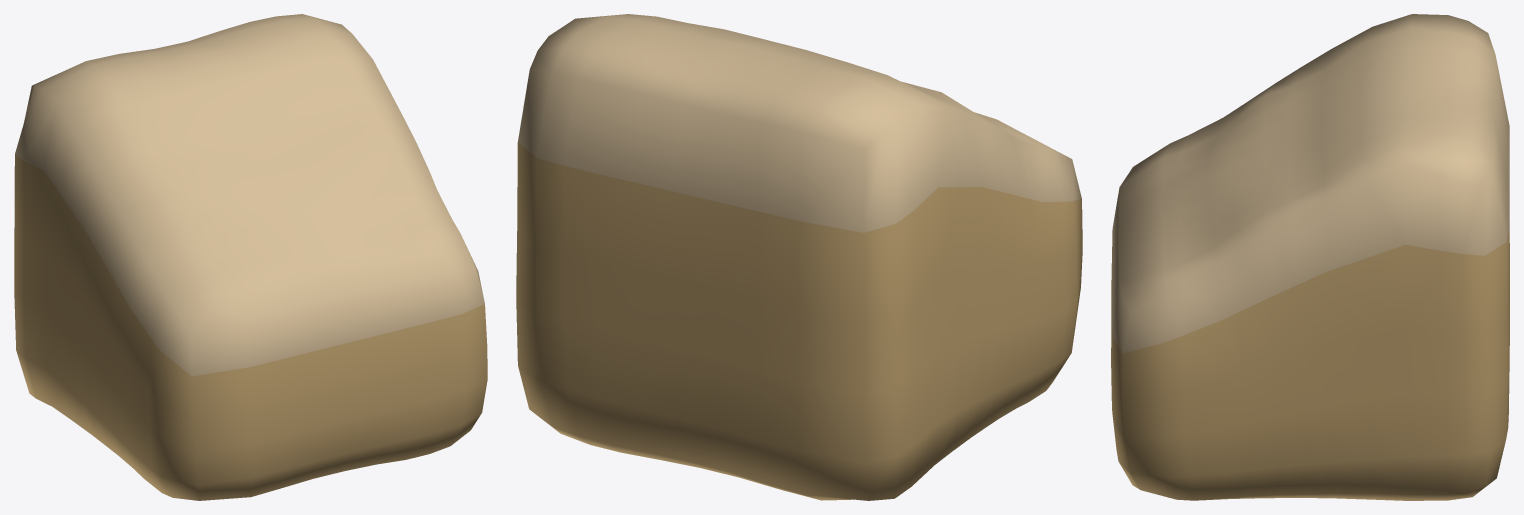
The model's file is HalfSand.fbx.
3 views of the same model, side by side, from view 1: azimuth 30°, elevation 25°; view 2: azimuth 150°, elevation 25°; view 3: azimuth 270°, elevation 25° (orthographic). The views are drawn at different scales.
Parts seen in each view (by area): view 1: LOW; view 2: LOW; view 3: LOW.
Part boxes in pixels (x1,y1,x2,y2): LOW: [14, 14, 487, 500]; LOW: [516, 14, 1082, 500]; LOW: [1111, 14, 1509, 500].
Bounding box in the file's own units: 1.06 × 1.07 × 1.07.
